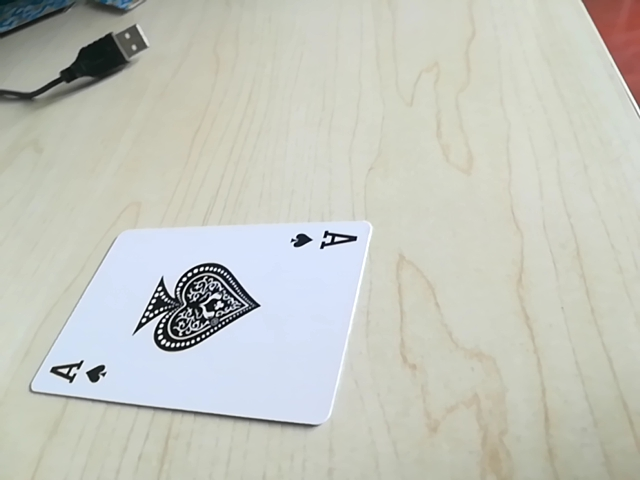ht a: (38, 355, 114, 393), (285, 224, 360, 258)
